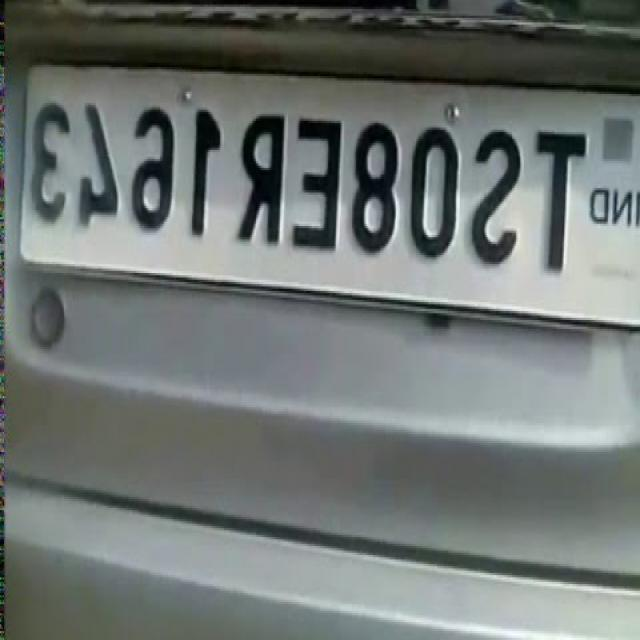license_plate: (7, 48, 640, 340)
